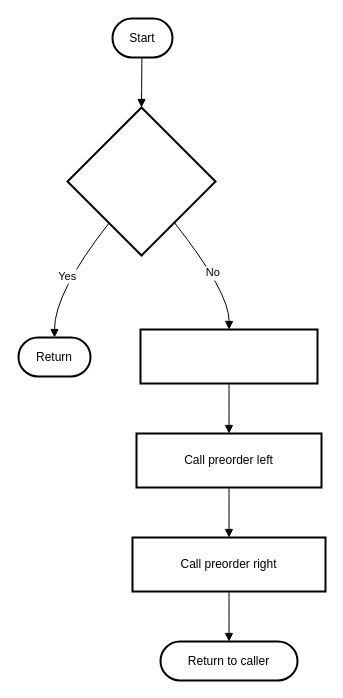
This 343x698 diagram has some shape labels left out. Each missing label, with the centre of its shape:
node == null?: point 141,181
Print node value: point 228,356
